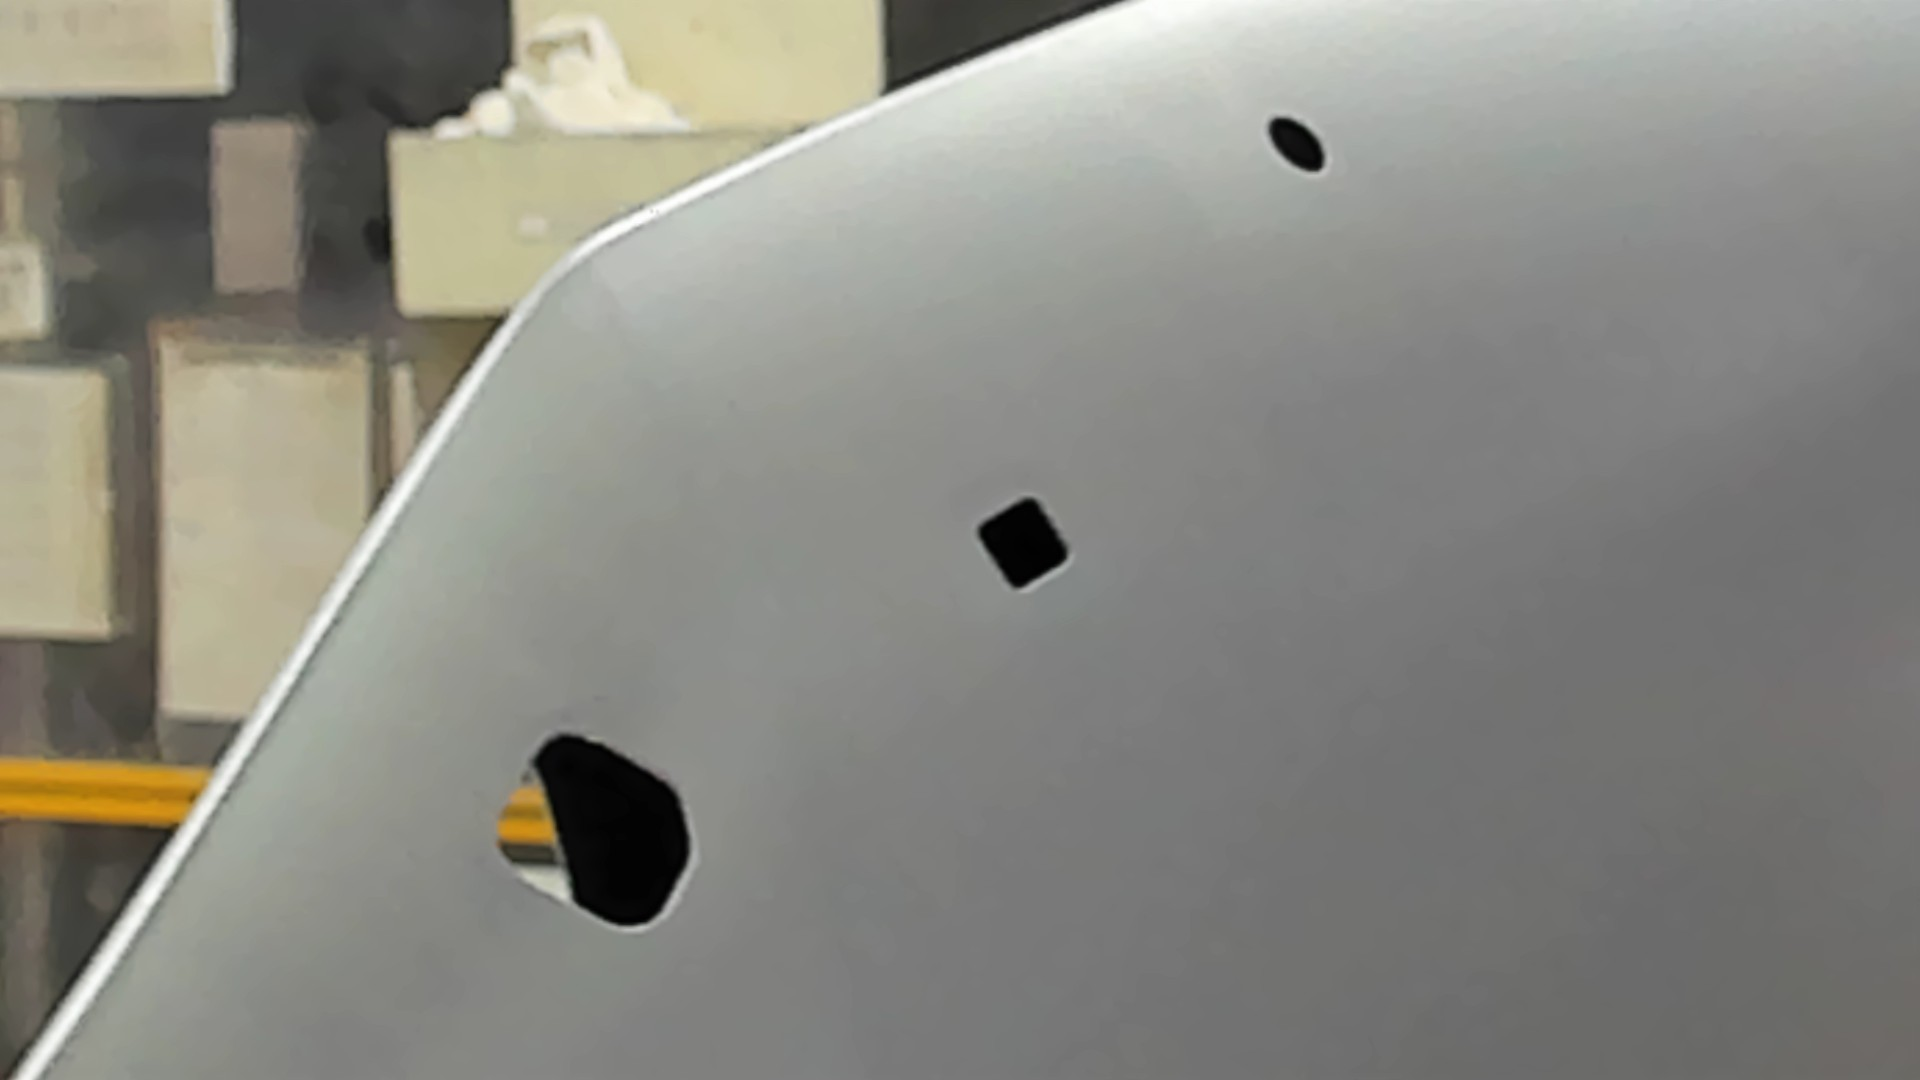chico: (1265, 112, 1327, 175)
grande: (493, 727, 702, 931)
mediano: (972, 493, 1073, 595)
